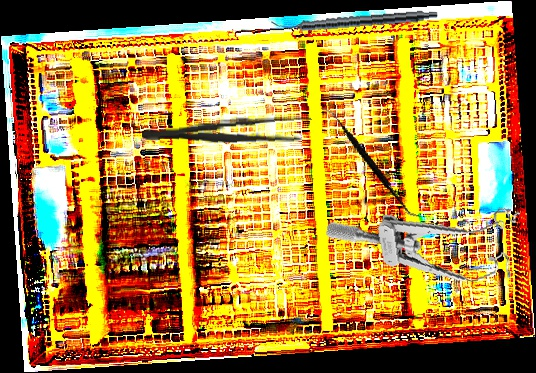Dressing Forceps: (141, 112, 313, 150)
Handpiece: (270, 5, 439, 36)
Spatula Surgical: (298, 105, 445, 219)
Speculum: (323, 192, 532, 306)
